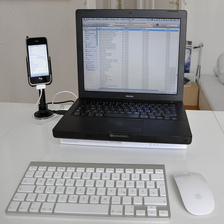laptop: (34, 1, 200, 162)
